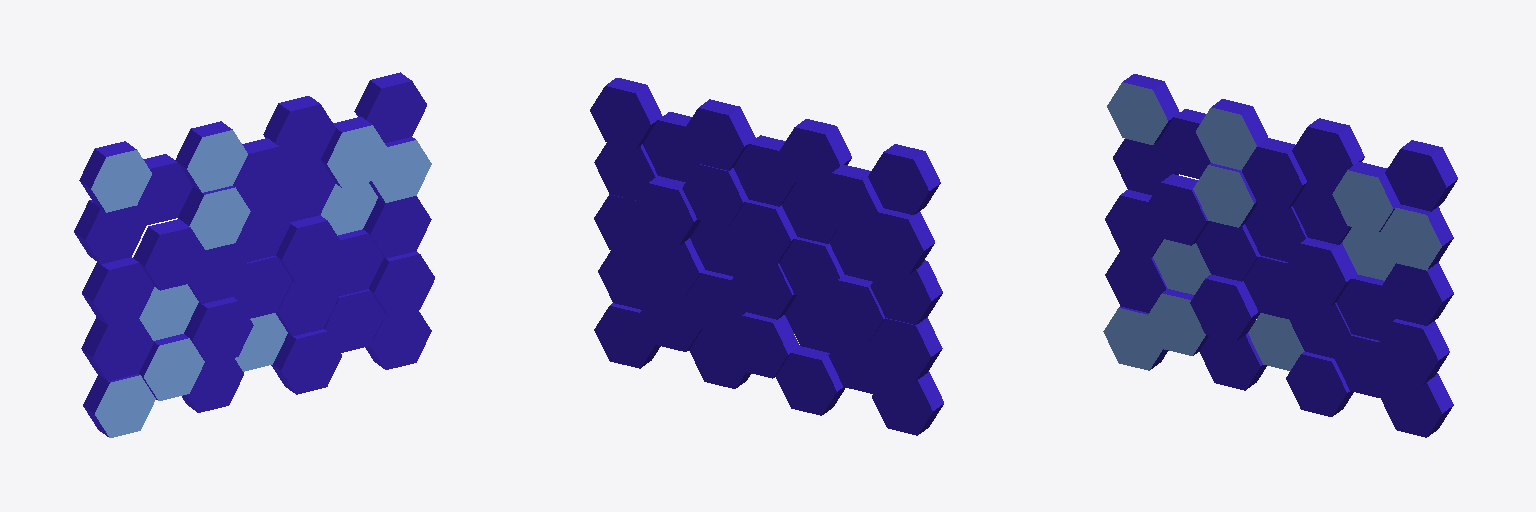
File: wall.obj
3 renders of one model, left to right at view 1: azimuth 30°, elevation 25°; view 2: azimuth 150°, elevation 25°; view 3: azimuth 330°, elevation 25°, orthographic.
Parts seen in each view (by area): view 1: Object.5, Object.14, Object.8, Object.3, Object.23, Object.32, Object.1, Object.27, Object.2, Object.19, Object.11, Object.21 (+20 smaller); view 2: Object.5, Object.32, Object.23, Object.4, Object.14, Object.10, Object.15, Object.2, Object.1, Object.9, Object.26, Object.3 (+20 smaller); view 3: Object.32, Object.5, Object.14, Object.23, Object.31, Object.21, Object.29, Object.27, Object.30, Object.11, Object.18, Object.28 (+20 smaller).
Part boxes in pixels (bbox=[...]): Object.5: bbox=[79, 141, 151, 212]; Object.14: bbox=[175, 121, 247, 192]; Object.8: bbox=[133, 219, 205, 290]; Object.3: bbox=[82, 257, 153, 325]; Object.23: bbox=[263, 96, 335, 166]; Object.32: bbox=[354, 72, 426, 142]; Object.1: bbox=[83, 374, 155, 437]; Object.27: bbox=[321, 117, 387, 187]; Object.2: bbox=[81, 317, 153, 380]; Object.19: bbox=[271, 329, 341, 394]; Object.11: bbox=[184, 297, 253, 363]; Object.21: bbox=[276, 215, 342, 283]; Object.5: bbox=[868, 144, 940, 214]; Object.32: bbox=[590, 78, 662, 148]; Object.23: bbox=[683, 99, 755, 170]; Object.4: bbox=[863, 208, 934, 274]; Object.14: bbox=[779, 119, 851, 188]; Object.10: bbox=[776, 346, 844, 415]; Object.15: bbox=[727, 312, 799, 378]; Object.2: bbox=[870, 317, 942, 380]; Object.1: bbox=[872, 371, 943, 435]; Object.9: bbox=[817, 164, 882, 235]; Object.26: bbox=[633, 176, 700, 245]; Object.3: bbox=[870, 260, 942, 324]; Object.32: bbox=[1385, 140, 1457, 211]; Object.5: bbox=[1107, 74, 1179, 144]; Object.14: bbox=[1196, 99, 1267, 170]; Object.23: bbox=[1292, 118, 1364, 188]; Object.31: bbox=[1381, 204, 1453, 270]; Object.21: bbox=[1285, 238, 1356, 305]; Object.29: bbox=[1377, 319, 1449, 384]; Object.27: bbox=[1332, 162, 1399, 232]; Object.30: bbox=[1381, 262, 1453, 325]; Object.11: bbox=[1190, 274, 1259, 341]; Object.18: bbox=[1242, 138, 1307, 209]; Object.28: bbox=[1381, 373, 1453, 437].
Bounding box in the file's own units: 4.75 × 3.74 × 0.6437.